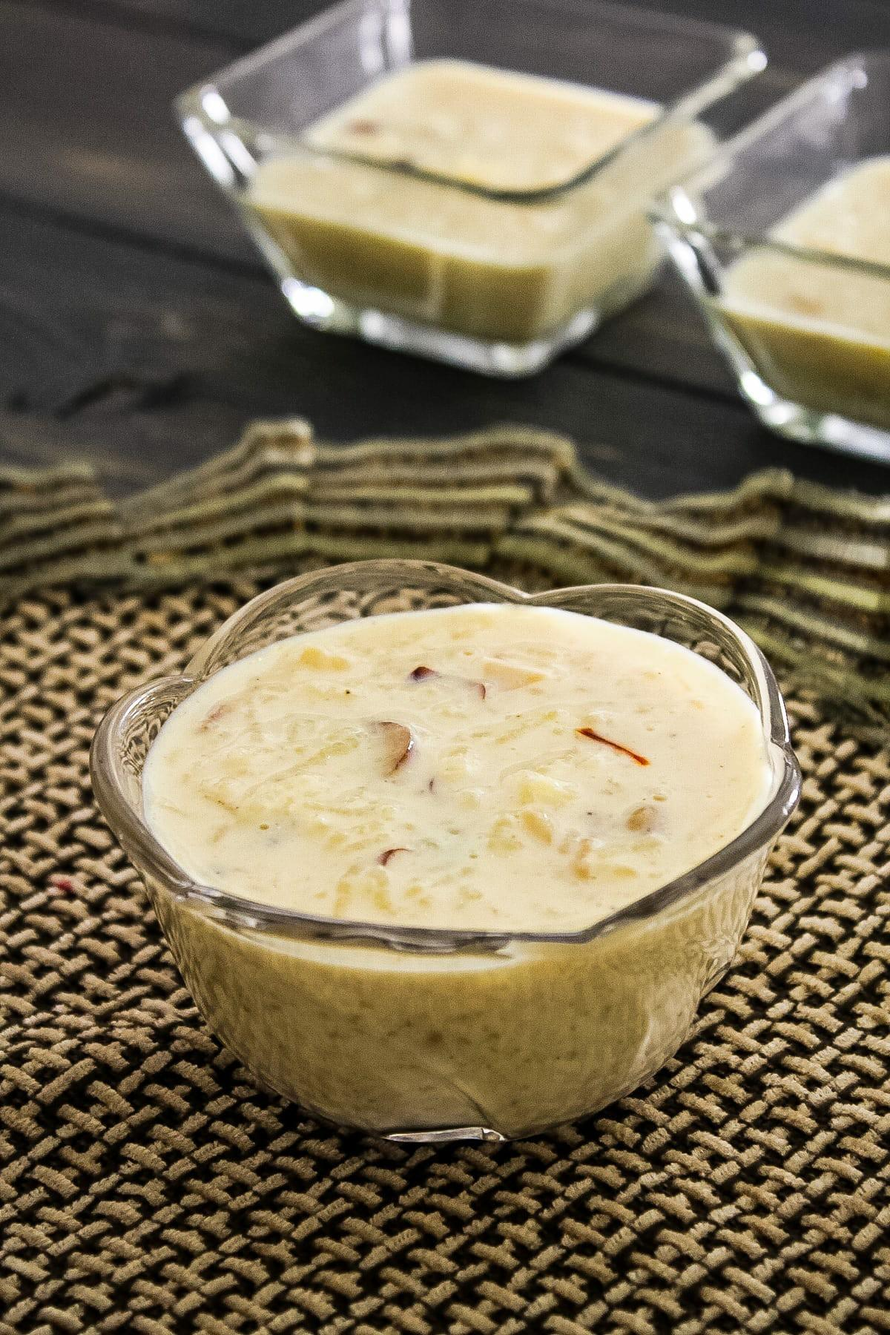Kheer: (146, 606, 771, 1129), (238, 59, 715, 335), (708, 154, 890, 428)
